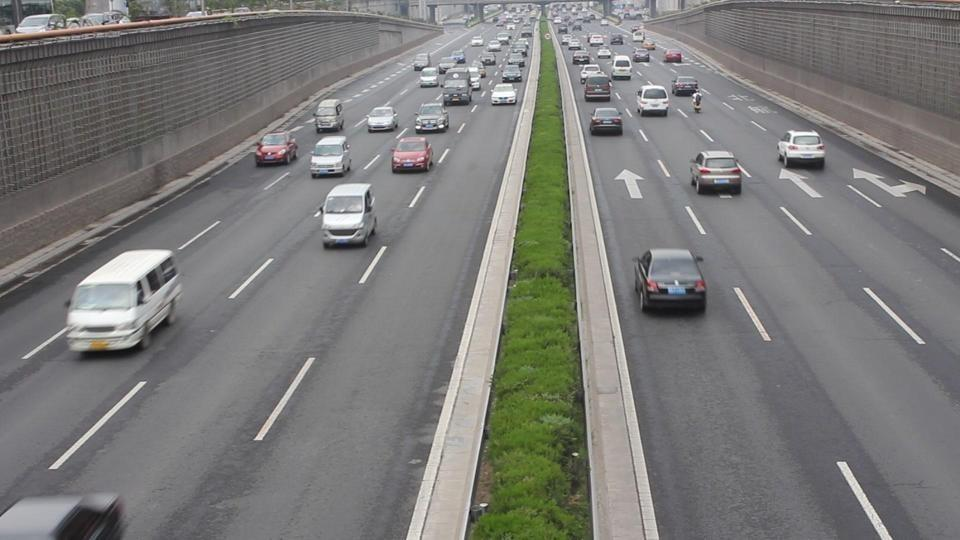car: (64, 249, 184, 353), (1, 492, 130, 538), (632, 248, 708, 314), (321, 183, 378, 248), (689, 148, 744, 198), (777, 129, 827, 170), (309, 136, 353, 178), (389, 136, 434, 173), (254, 133, 300, 166), (440, 68, 472, 106), (635, 85, 671, 117), (414, 102, 449, 134), (314, 100, 345, 133), (589, 107, 624, 136), (365, 105, 399, 134), (582, 74, 613, 102), (490, 84, 517, 106), (672, 75, 698, 96), (612, 55, 632, 80), (419, 68, 440, 88)
